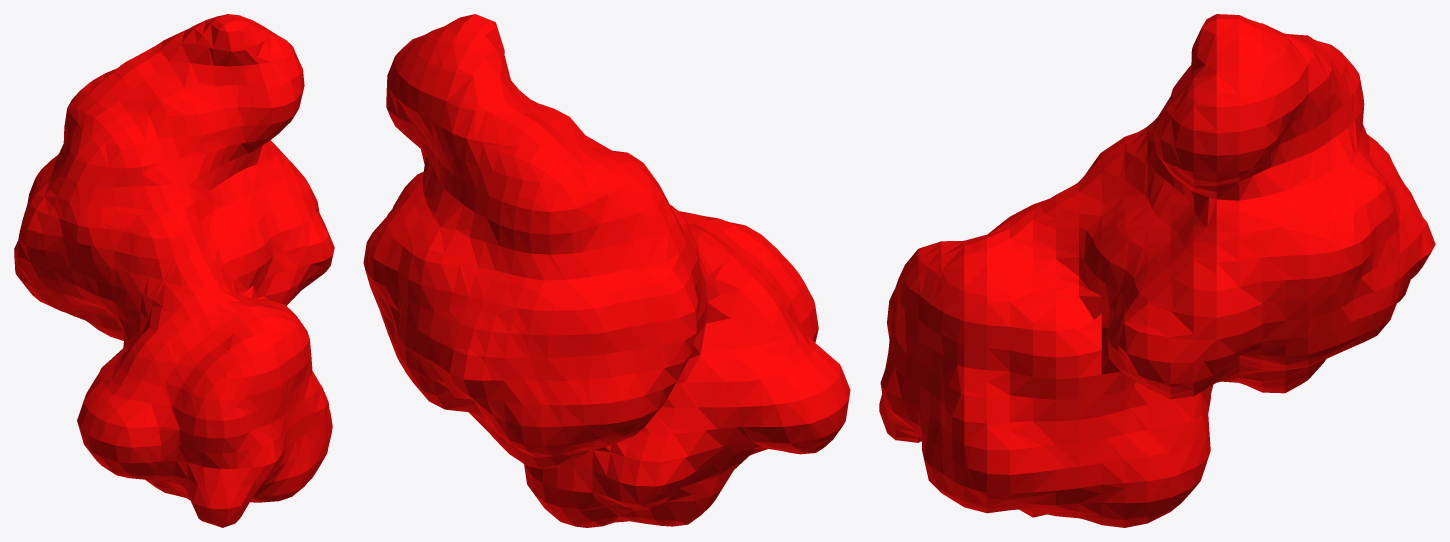
The model's file is ghrA_coarse.dae.
The picture shows the model from 3 angles, left to right: view 1: azimuth 30°, elevation 25°; view 2: azimuth 150°, elevation 25°; view 3: azimuth 270°, elevation 25°; orthographic projection. The views are drawn at different scales.
Parts seen in each view (by area): view 1: ghrA; view 2: ghrA; view 3: ghrA.
Boxes of the visible parts, x1=… form: ghrA: x1=14, y1=14, x2=334, y2=527; ghrA: x1=363, y1=14, x2=850, y2=527; ghrA: x1=879, y1=14, x2=1435, y2=527.
Bounding box in the file's own units: 52.18 × 71.32 × 65.27.
